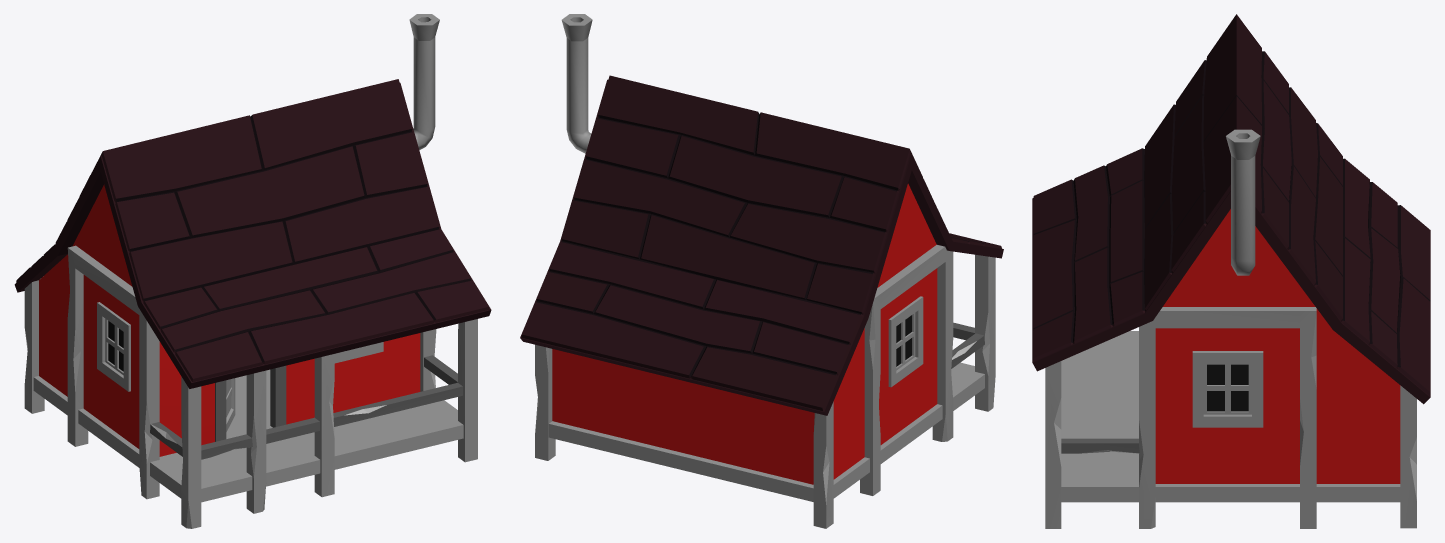
The model's file is House_5.fbx.
3 renders of one model, left to right at view 1: azimuth 30°, elevation 25°; view 2: azimuth 150°, elevation 25°; view 3: azimuth 270°, elevation 25°, orthographic. The views are drawn at different scales.
Visible parts, largest first — view 1: House_5; view 2: House_5; view 3: House_5.
Part boxes in pixels (x1=…): House_5: x1=14, y1=14, x2=491, y2=528; House_5: x1=520, y1=14, x2=1003, y2=528; House_5: x1=1032, y1=14, x2=1430, y2=528.
Bounding box in the file's own units: 178 × 185 × 162.
